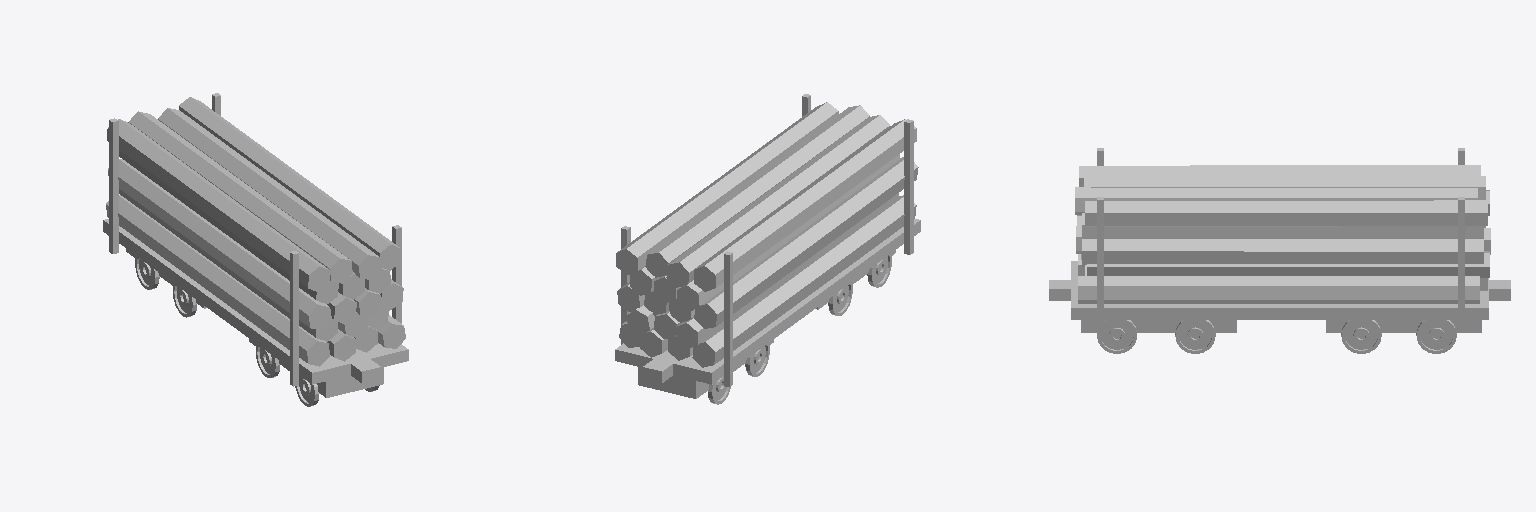
Rendered from cabin Two_0605.obj.
3 renders of one model, left to right at view 1: azimuth 30°, elevation 25°; view 2: azimuth 150°, elevation 25°; view 3: azimuth 270°, elevation 25°, orthographic.
Visible parts, largest first — view 1: Circle.017_Circle.035_Material.001, Circle.007_Circle.025_Material.001, Circle_Circle.001_Material.001, cabin_set_Cube.009_Material.007, Circle.015_Circle.033_Material.001, Circle.016_Circle.034_Material.001, Circle.014_Circle.032_Material.001, cabin_set6_Cube.020_Material.007, cabin_set4_Cube.018_Material.007, Circle.013_Circle.031_Material.001, Circle.006_Circle.024_Material.001, cabin_set1_Cube.013_Material.007 (+2 smaller); view 2: Circle.017_Circle.035_Material.001, Circle.007_Circle.025_Material.001, Circle_Circle.001_Material.001, cabin_set_Cube.009_Material.007, Circle.015_Circle.033_Material.001, Circle.016_Circle.034_Material.001, Circle.014_Circle.032_Material.001, Circle.013_Circle.031_Material.001, cabin_set4_Cube.018_Material.007, Circle.006_Circle.024_Material.001, cabin_set6_Cube.020_Material.007, cabin_set2_Cube.016_Material.007; view 3: Circle.003_Circle.021_Material.001, Circle.014_Circle.032_Material.001, Circle.010_Circle.028_Material.001, cabin_set_Cube.009_Material.007, Circle.015_Circle.033_Material.001, Circle.016_Circle.034_Material.001, Circle.011_Circle.029_Material.001, Circle.004_Circle.022_Material.001, Circle.017_Circle.035_Material.001, Circle.018_Circle.079_Material.003, Circle.021_Circle.080_Material.005, Circle.020_Circle.081_Material.005 (+5 smaller).
Part boxes in pixels (x1,y1,x2,y2): Circle.017_Circle.035_Material.001: (107,119,328,287); Circle.007_Circle.025_Material.001: (108,159,328,327); Circle_Circle.001_Material.001: (106,195,326,362); cabin_set_Cube.009_Material.007: (103,219,408,384); Circle.015_Circle.033_Material.001: (158,108,378,277); Circle.016_Circle.034_Material.001: (128,111,350,280); Circle.014_Circle.032_Material.001: (179,97,399,256); cabin_set6_Cube.020_Material.007: (109,118,118,253); cabin_set4_Cube.018_Material.007: (290,251,298,386); Circle.013_Circle.031_Material.001: (119,150,316,299); Circle.006_Circle.024_Material.001: (119,189,315,337); cabin_set1_Cube.013_Material.007: (249,339,383,397); Circle.017_Circle.035_Material.001: (694,119,916,287); Circle.007_Circle.025_Material.001: (703,157,918,326); Circle_Circle.001_Material.001: (702,195,916,364); cabin_set_Cube.009_Material.007: (615,219,920,384); Circle.015_Circle.033_Material.001: (647,105,869,263); Circle.016_Circle.034_Material.001: (668,115,889,283); Circle.014_Circle.032_Material.001: (617,102,838,270); Circle.013_Circle.031_Material.001: (678,154,899,305); cabin_set4_Cube.018_Material.007: (904,119,913,254); Circle.006_Circle.024_Material.001: (676,193,898,344); cabin_set6_Cube.020_Material.007: (724,251,732,386); cabin_set2_Cube.016_Material.007: (638,339,773,398); Circle.003_Circle.021_Material.001: (1078,276,1479,303); Circle.014_Circle.032_Material.001: (1085,200,1487,226); Circle.010_Circle.028_Material.001: (1082,239,1483,263); cabin_set_Cube.009_Material.007: (1049,261,1510,319); Circle.015_Circle.033_Material.001: (1075,187,1477,214); Circle.016_Circle.034_Material.001: (1084,176,1485,199); Circle.011_Circle.029_Material.001: (1082,213,1483,238); Circle.004_Circle.022_Material.001: (1087,251,1489,277); Circle.017_Circle.035_Material.001: (1079,165,1480,186); Circle.018_Circle.079_Material.003: (1416,320,1456,353); Circle.021_Circle.080_Material.005: (1341,320,1381,353); Circle.020_Circle.081_Material.005: (1175,320,1215,353).
Bounding box in the file's own units: 2.17 × 3.13 × 7.97.